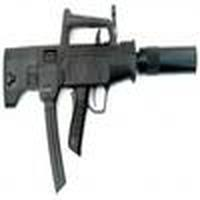gun: (1, 13, 200, 146)
